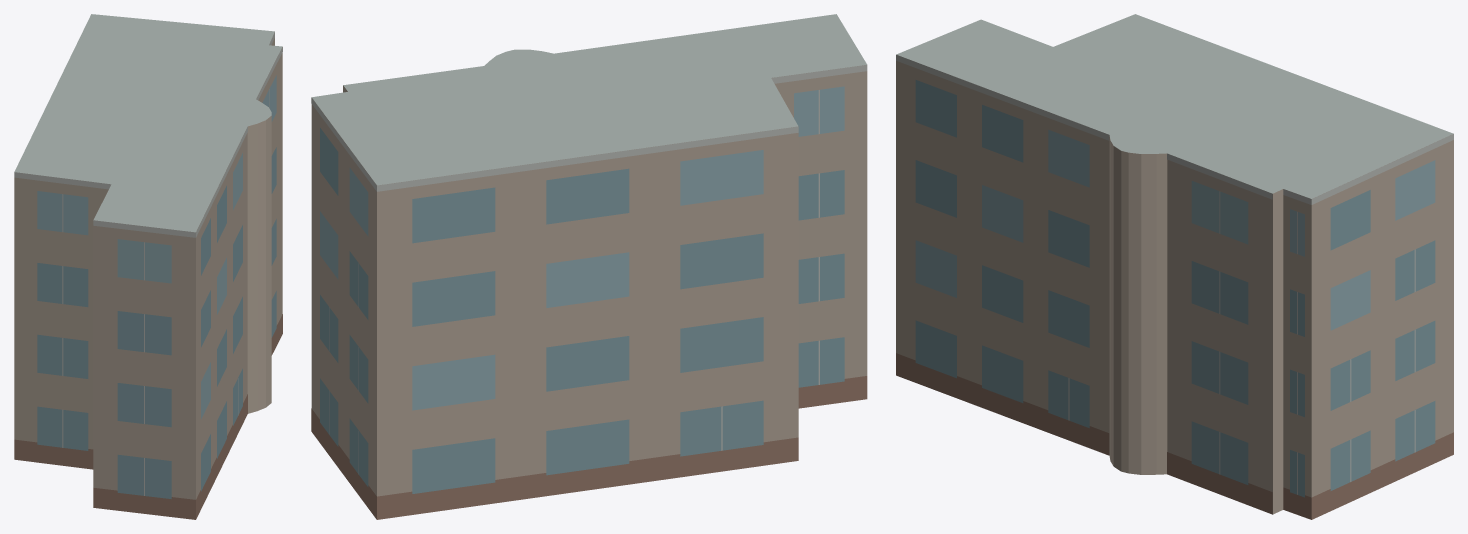
The model's file is survey-upis-32524279.glb.
3 renders of one model, left to right at view 1: azimuth 30°, elevation 25°; view 2: azimuth 150°, elevation 25°; view 3: azimuth 270°, elevation 25°, orthographic. The views are drawn at different scales.
Parts seen in each view (by area): view 1: survey-upis-32524279.tmp; view 2: survey-upis-32524279.tmp; view 3: survey-upis-32524279.tmp.
Boxes of the visible parts, left/top/right/bottom form: survey-upis-32524279.tmp: left=14, top=14, right=282, bottom=519; survey-upis-32524279.tmp: left=311, top=14, right=867, bottom=519; survey-upis-32524279.tmp: left=896, top=14, right=1453, bottom=519.
Bounding box in the file's own units: 15.84 × 12.8 × 20.17.
